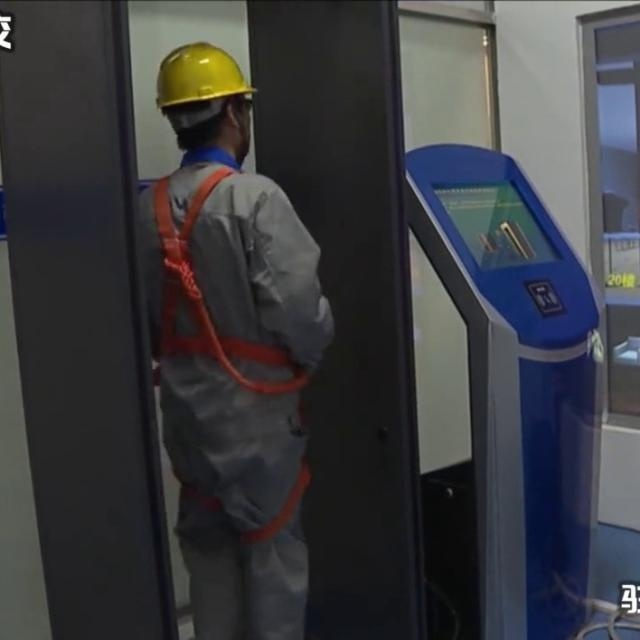Arnes_seguridad: (141, 153, 309, 397)
